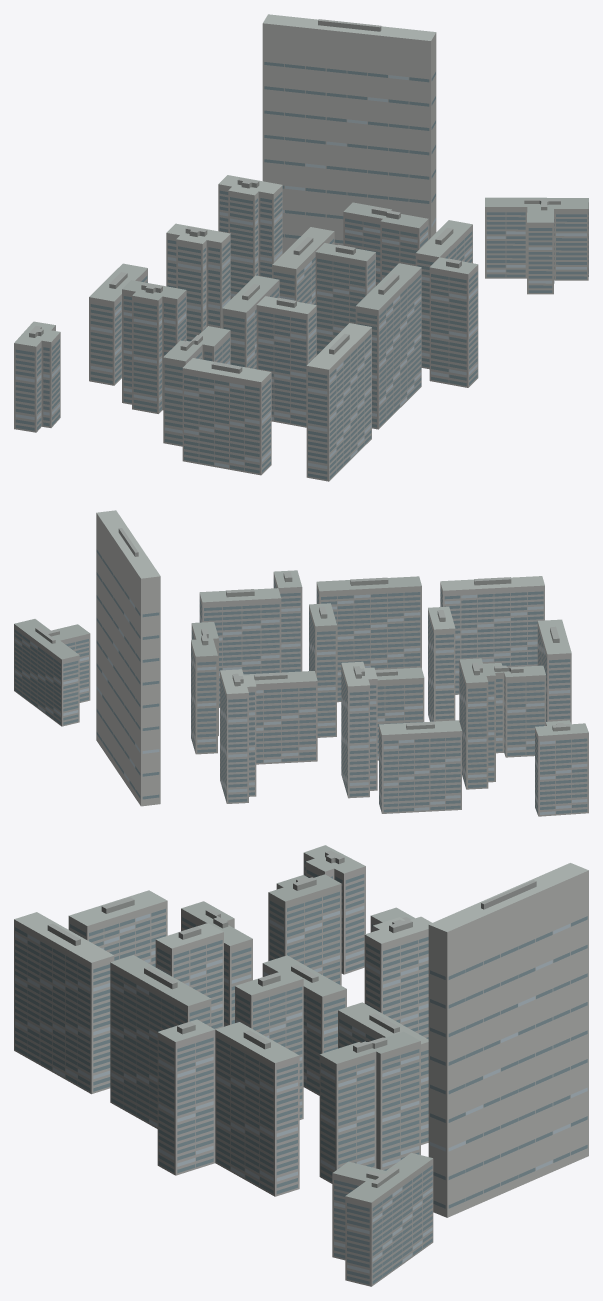
File: apt-a15284906.glb
3 renders of one model, top to bottom at view 1: azimuth 30°, elevation 25°; view 2: azimuth 150°, elevation 25°; view 3: azimuth 270°, elevation 25°, orthographic. The views are drawn at different scales.
Parts seen in each view (by area): view 1: apt-a15284906; view 2: apt-a15284906; view 3: apt-a15284906.
Part boxes in pixels (x1,y1,x2,y2): apt-a15284906: (14,14,588,481); apt-a15284906: (14,510,588,816); apt-a15284906: (14,845,588,1286).
Bounding box in the file's own units: 331 × 132 × 236.
